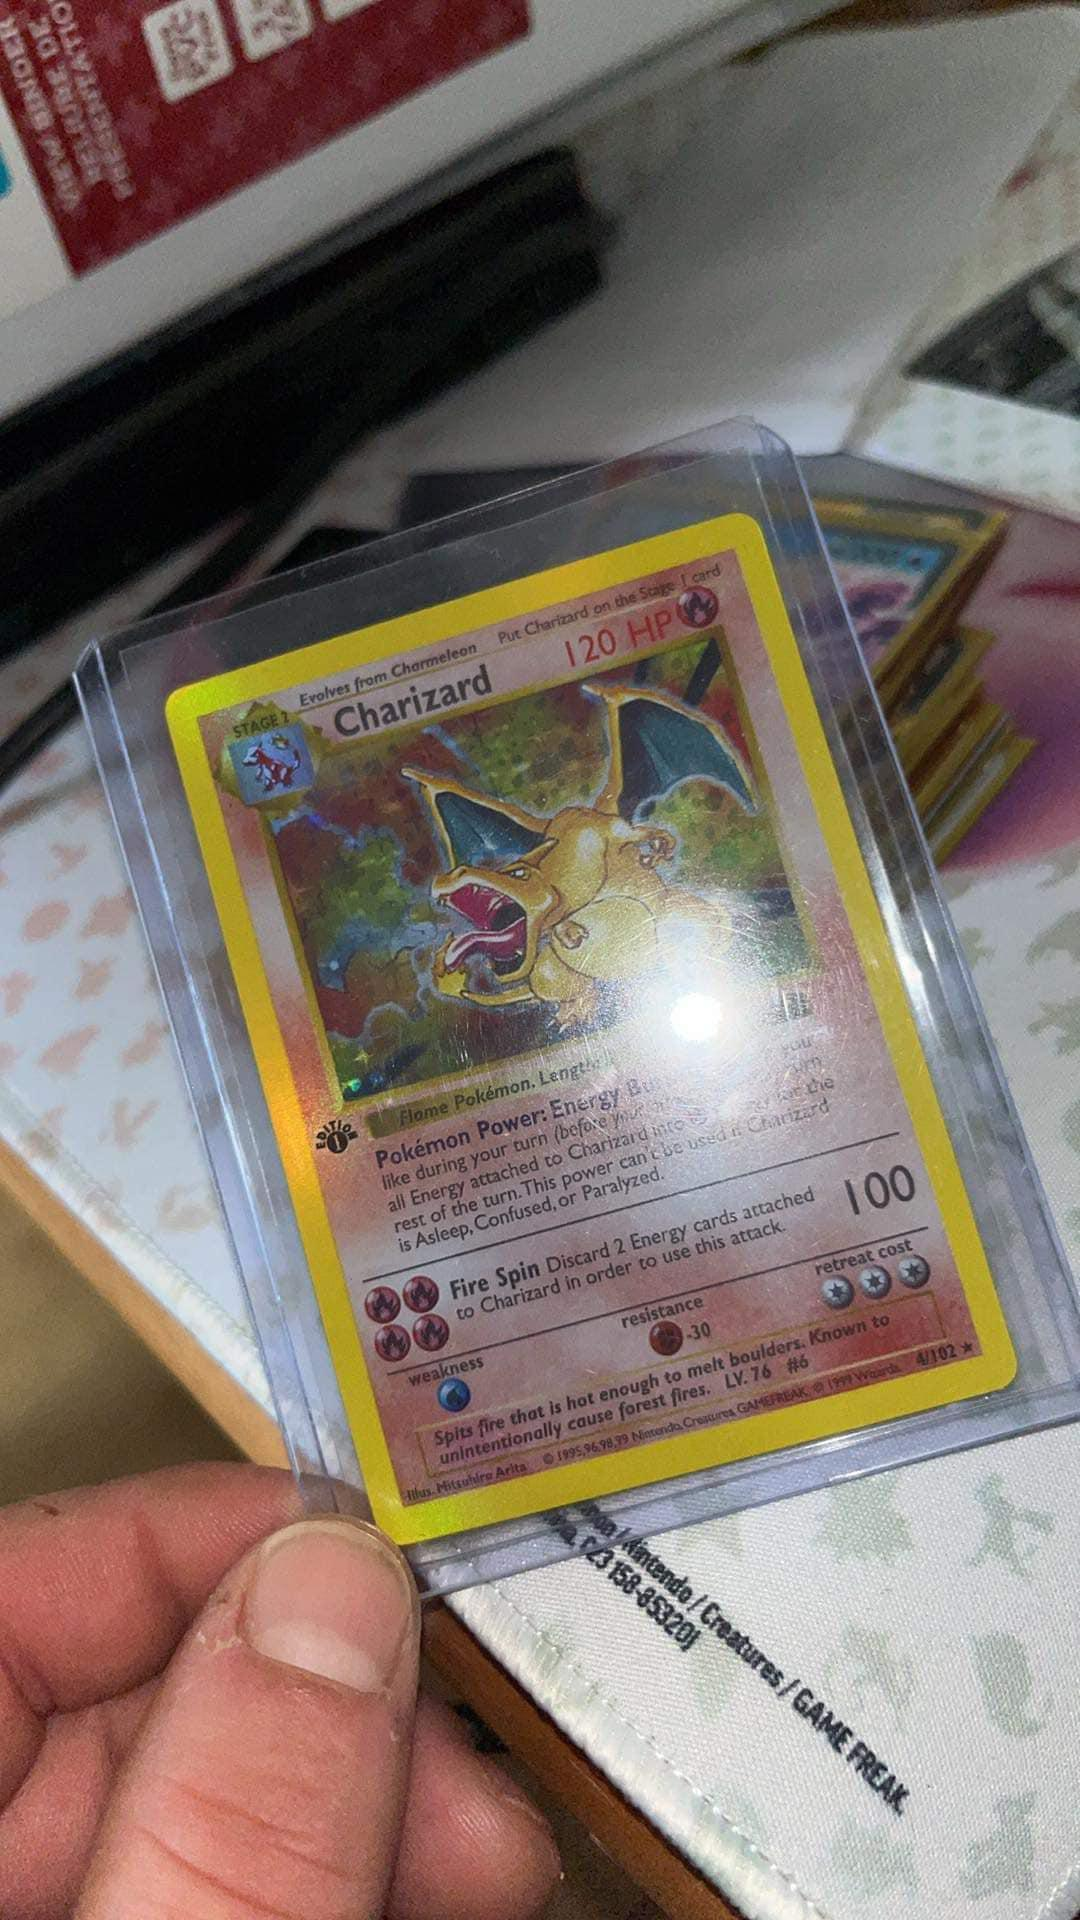card: (166, 506, 1021, 1548)
name: (327, 655, 510, 744)
set num: (911, 1337, 964, 1377)
stamp: (302, 1110, 367, 1167)
